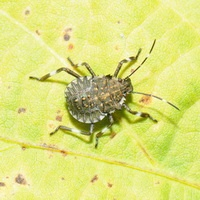insect: (29, 39, 179, 135)
